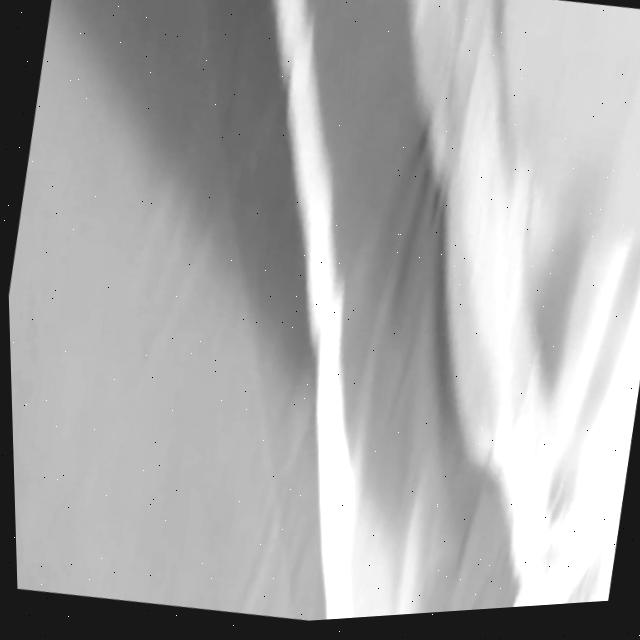right: (273, 0, 347, 548), (322, 491, 350, 619)
